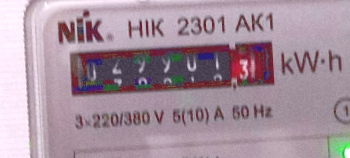0: (182, 47, 199, 73), (82, 59, 98, 81)
1: (209, 46, 223, 71)
2: (107, 52, 124, 75)
3: (235, 56, 251, 80)
9: (158, 51, 172, 74), (133, 51, 147, 73)
screen: (60, 32, 284, 106)
